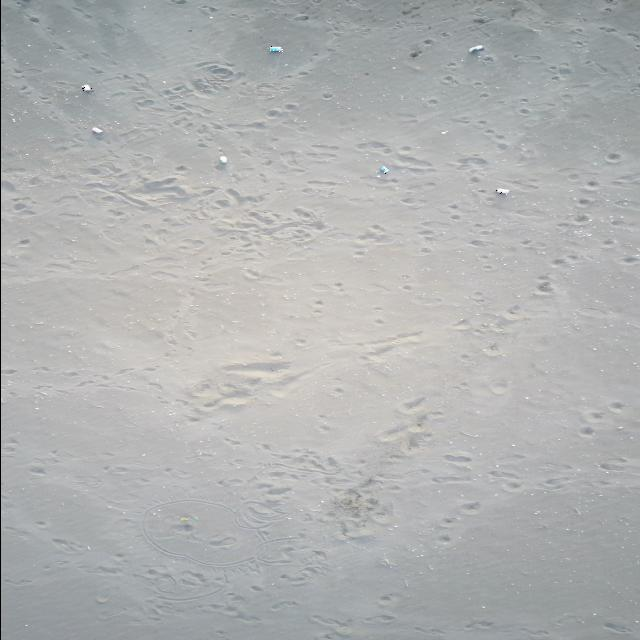Garbage: (468, 44, 483, 52), (495, 187, 507, 195), (91, 127, 103, 135), (268, 45, 283, 51), (377, 164, 388, 172), (81, 84, 91, 91), (219, 155, 227, 162), (440, 129, 447, 134)
